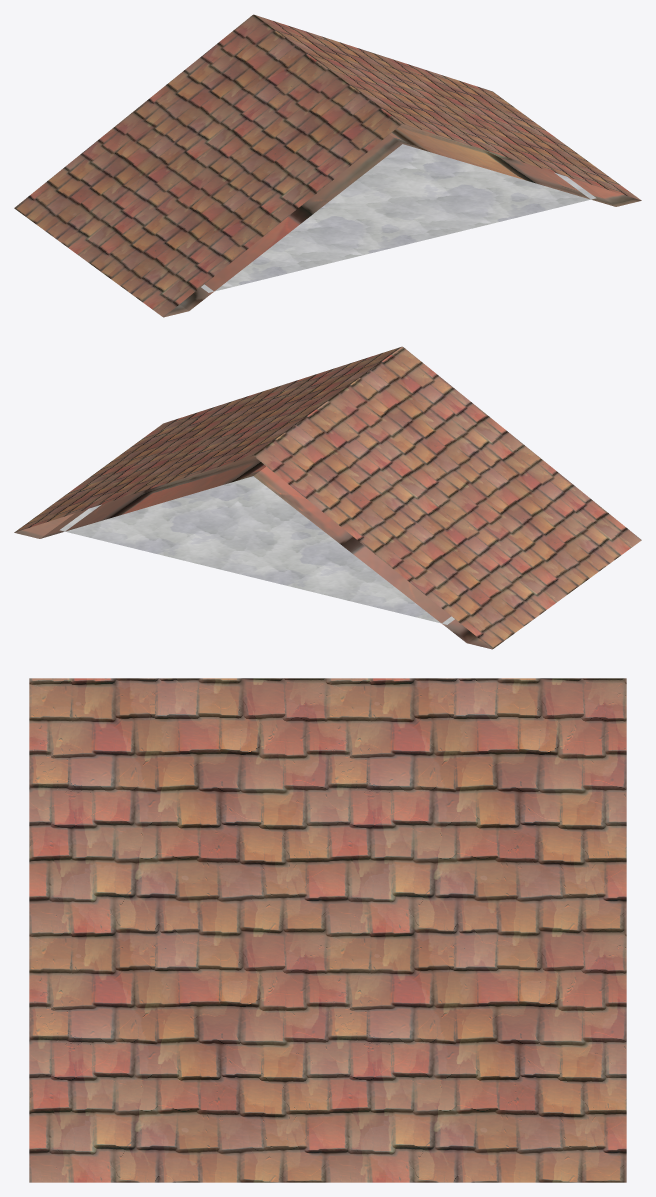
File: roof_6x2x4.fbx
The picture shows the model from 3 angles, top to bottom: view 1: azimuth 30°, elevation 25°; view 2: azimuth 150°, elevation 25°; view 3: azimuth 270°, elevation 25°; orthographic projection. The views are drawn at different scales.
Parts seen in each view (by area): view 1: roof_6x2x4; view 2: roof_6x2x4; view 3: roof_6x2x4.
Part boxes in pixels (x1,y1,x2,y2): roof_6x2x4: (14, 14, 641, 317); roof_6x2x4: (14, 346, 641, 649); roof_6x2x4: (29, 678, 626, 1182).
Size of the model in its own units: 740 by 200 by 400.
